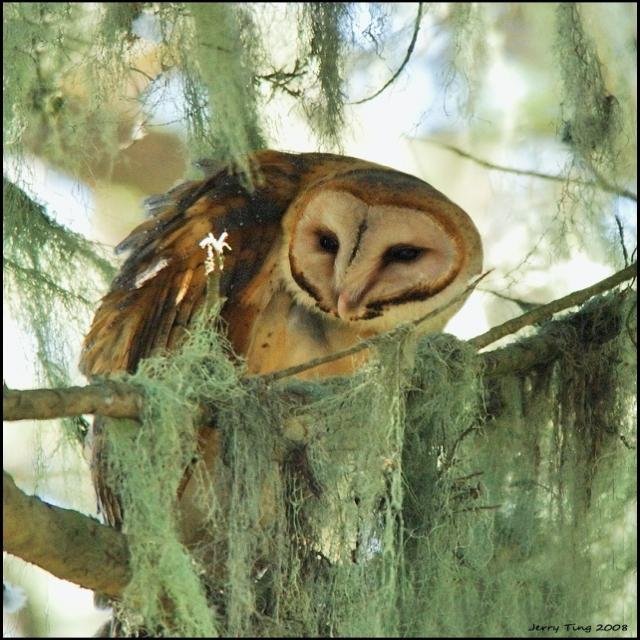bird: (81, 143, 489, 385)
